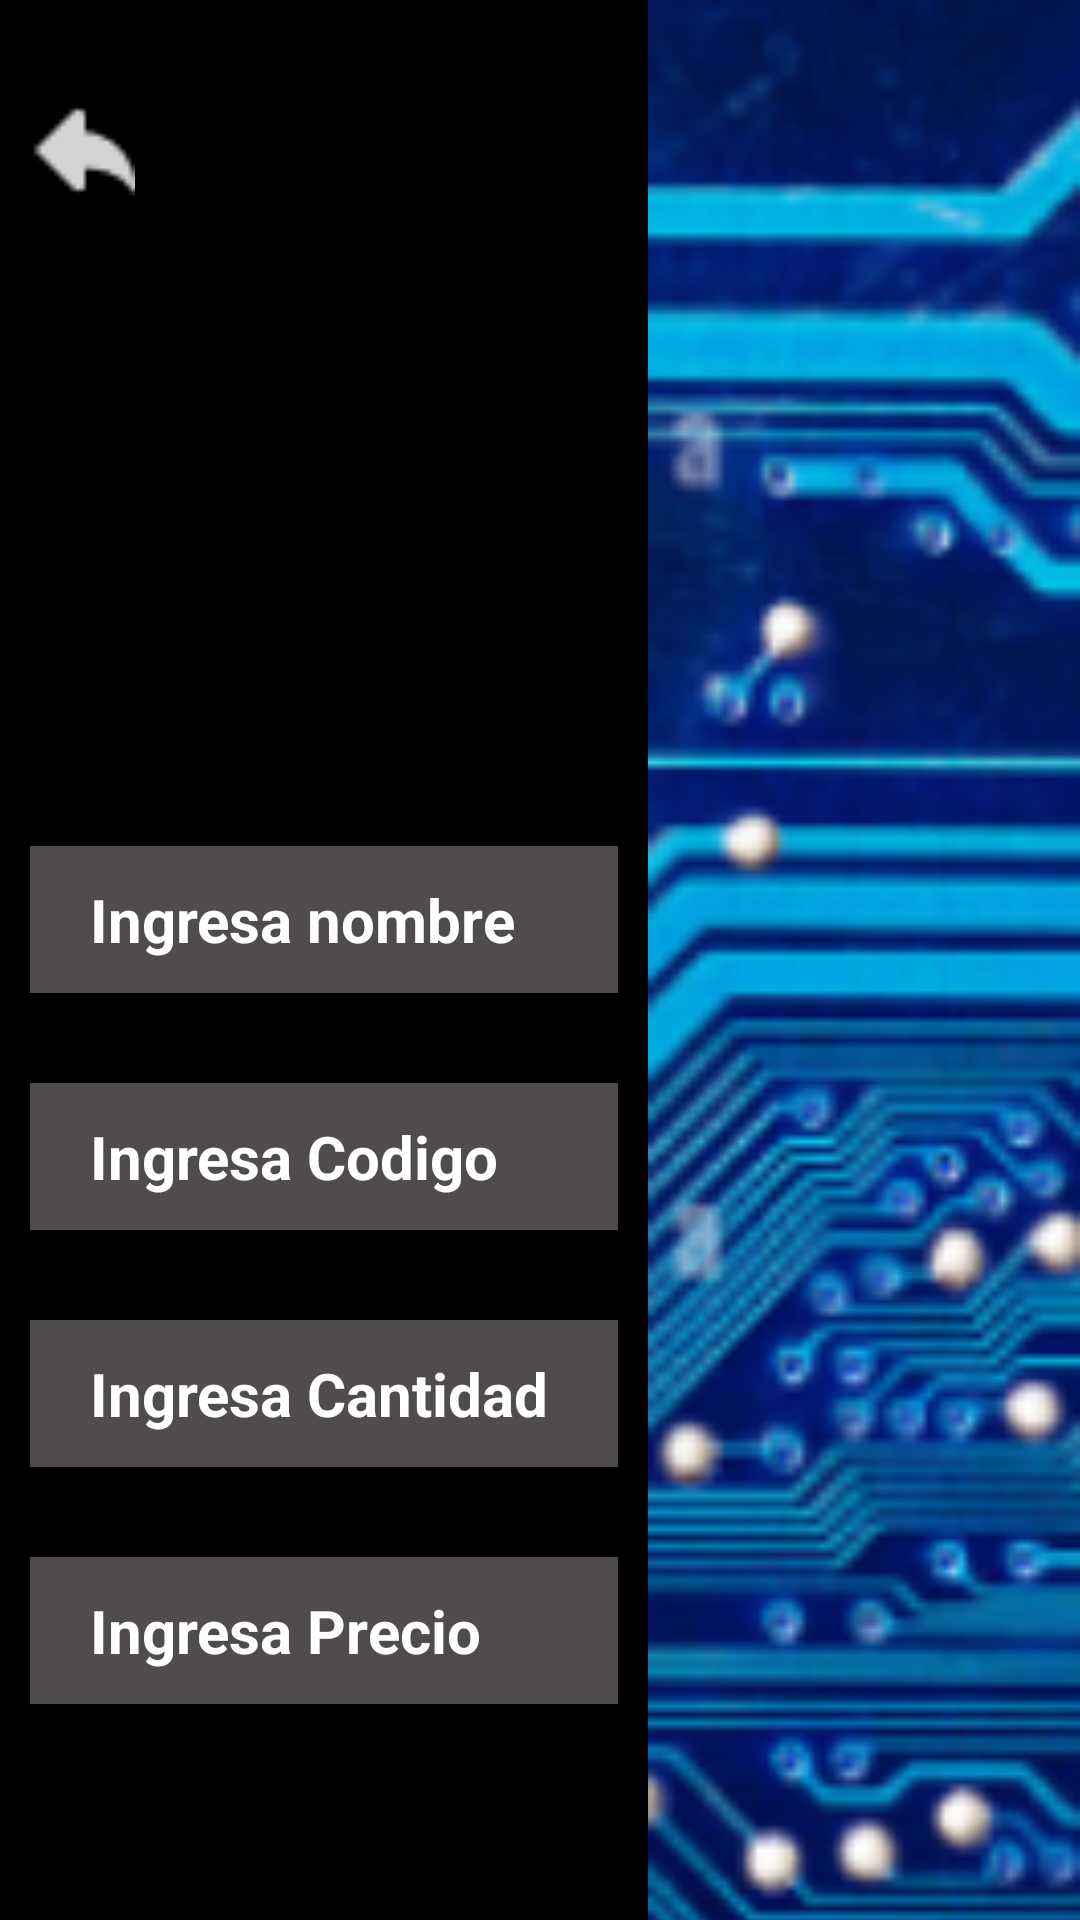

Named icons in this screenshot (1080 × 1920) and their centers, [x,y]:
back: [84,151]
